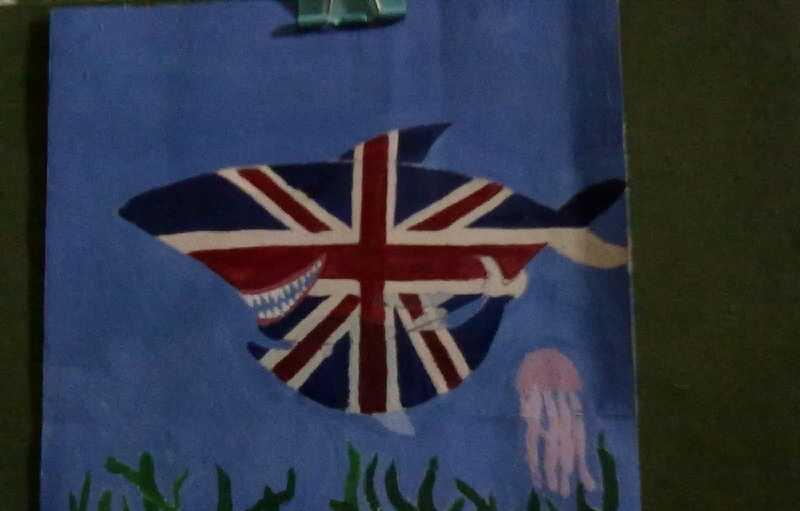UK_flag: (164, 128, 550, 410)
